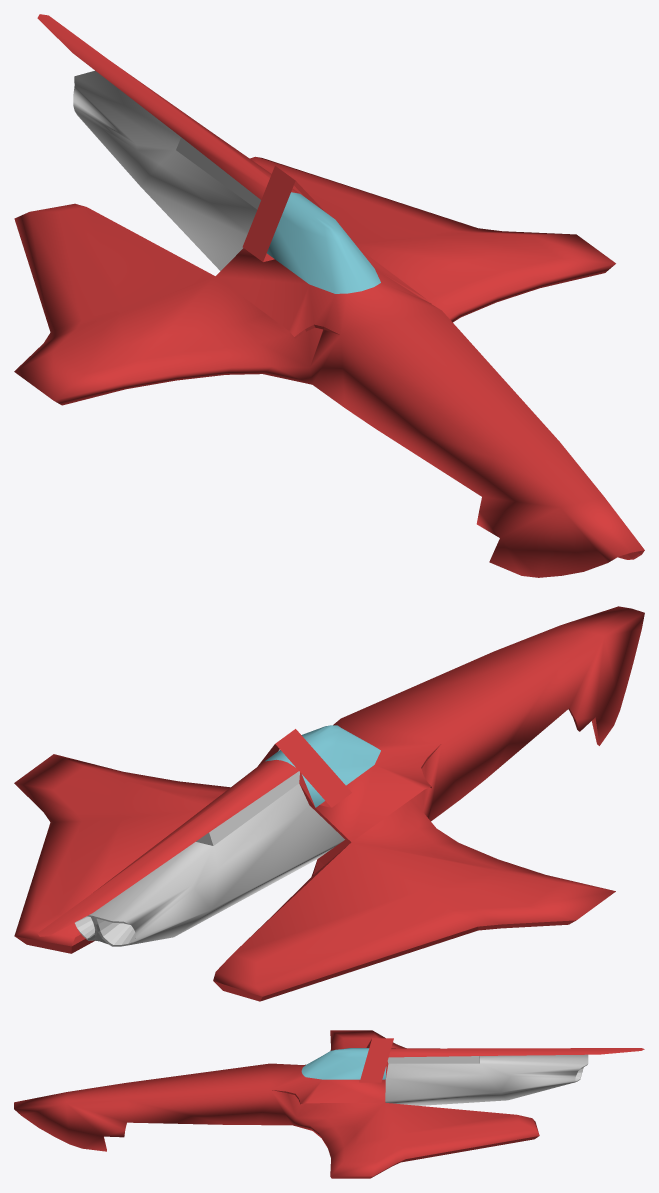
Rendered from ship.fbx.
3 renders of one model, top to bottom at view 1: azimuth 30°, elevation 25°; view 2: azimuth 150°, elevation 25°; view 3: azimuth 270°, elevation 25°, orthographic. The views are drawn at different scales.
Parts seen in each view (by area): view 1: Cube; view 2: Cube; view 3: Cube.
Part boxes in pixels (x1,y1,x2,y2): Cube: (14,14,644,577); Cube: (14,606,644,1001); Cube: (14,1030,644,1178).
Bounding box in the file's own units: 346 × 109 × 631.
